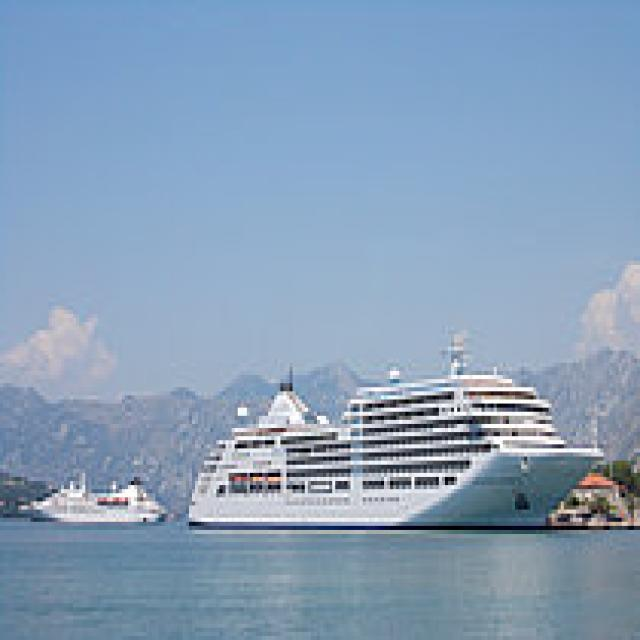Ship: (181, 319, 614, 539)
